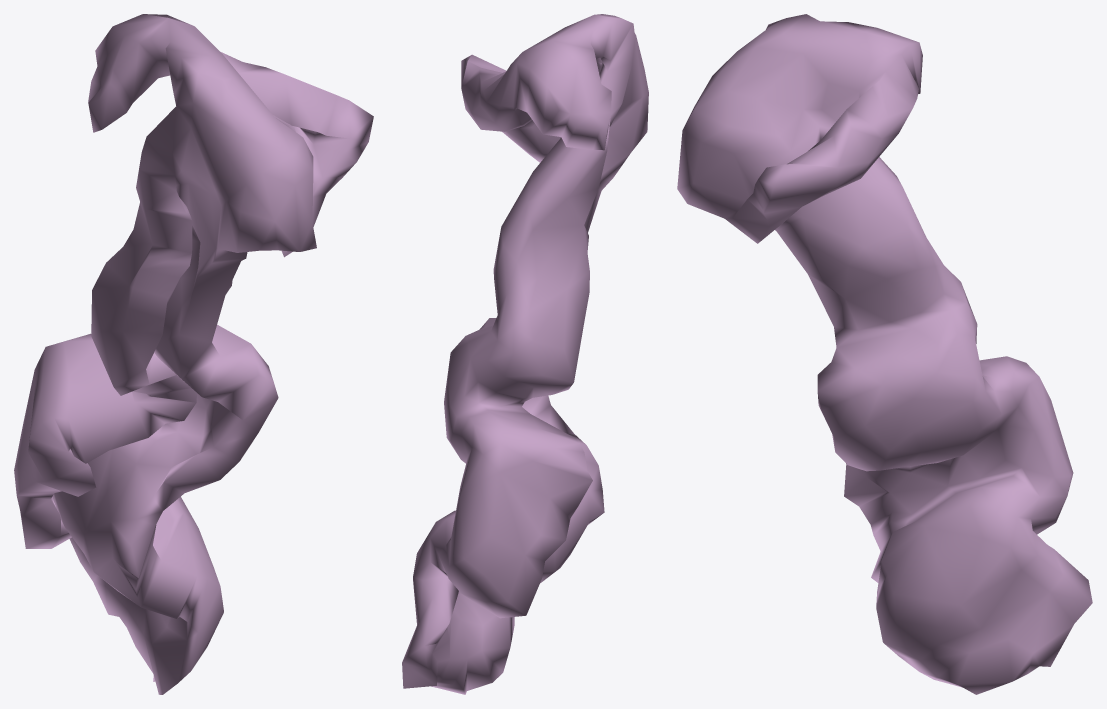
The picture shows the model from 3 angles, left to right: view 1: azimuth 30°, elevation 25°; view 2: azimuth 150°, elevation 25°; view 3: azimuth 270°, elevation 25°; orthographic projection. The views are drawn at different scales.
Visible parts, largest first — view 1: 右侧额上沟; view 2: 右侧额上沟; view 3: 右侧额上沟.
Part boxes in pixels (<box>): 右侧额上沟: <box>14,14,373,694</box>; 右侧额上沟: <box>402,14,648,694</box>; 右侧额上沟: <box>677,14,1092,694</box>.
Bounding box in the file's own units: 0.0359 × 0.0992 × 0.0583.
